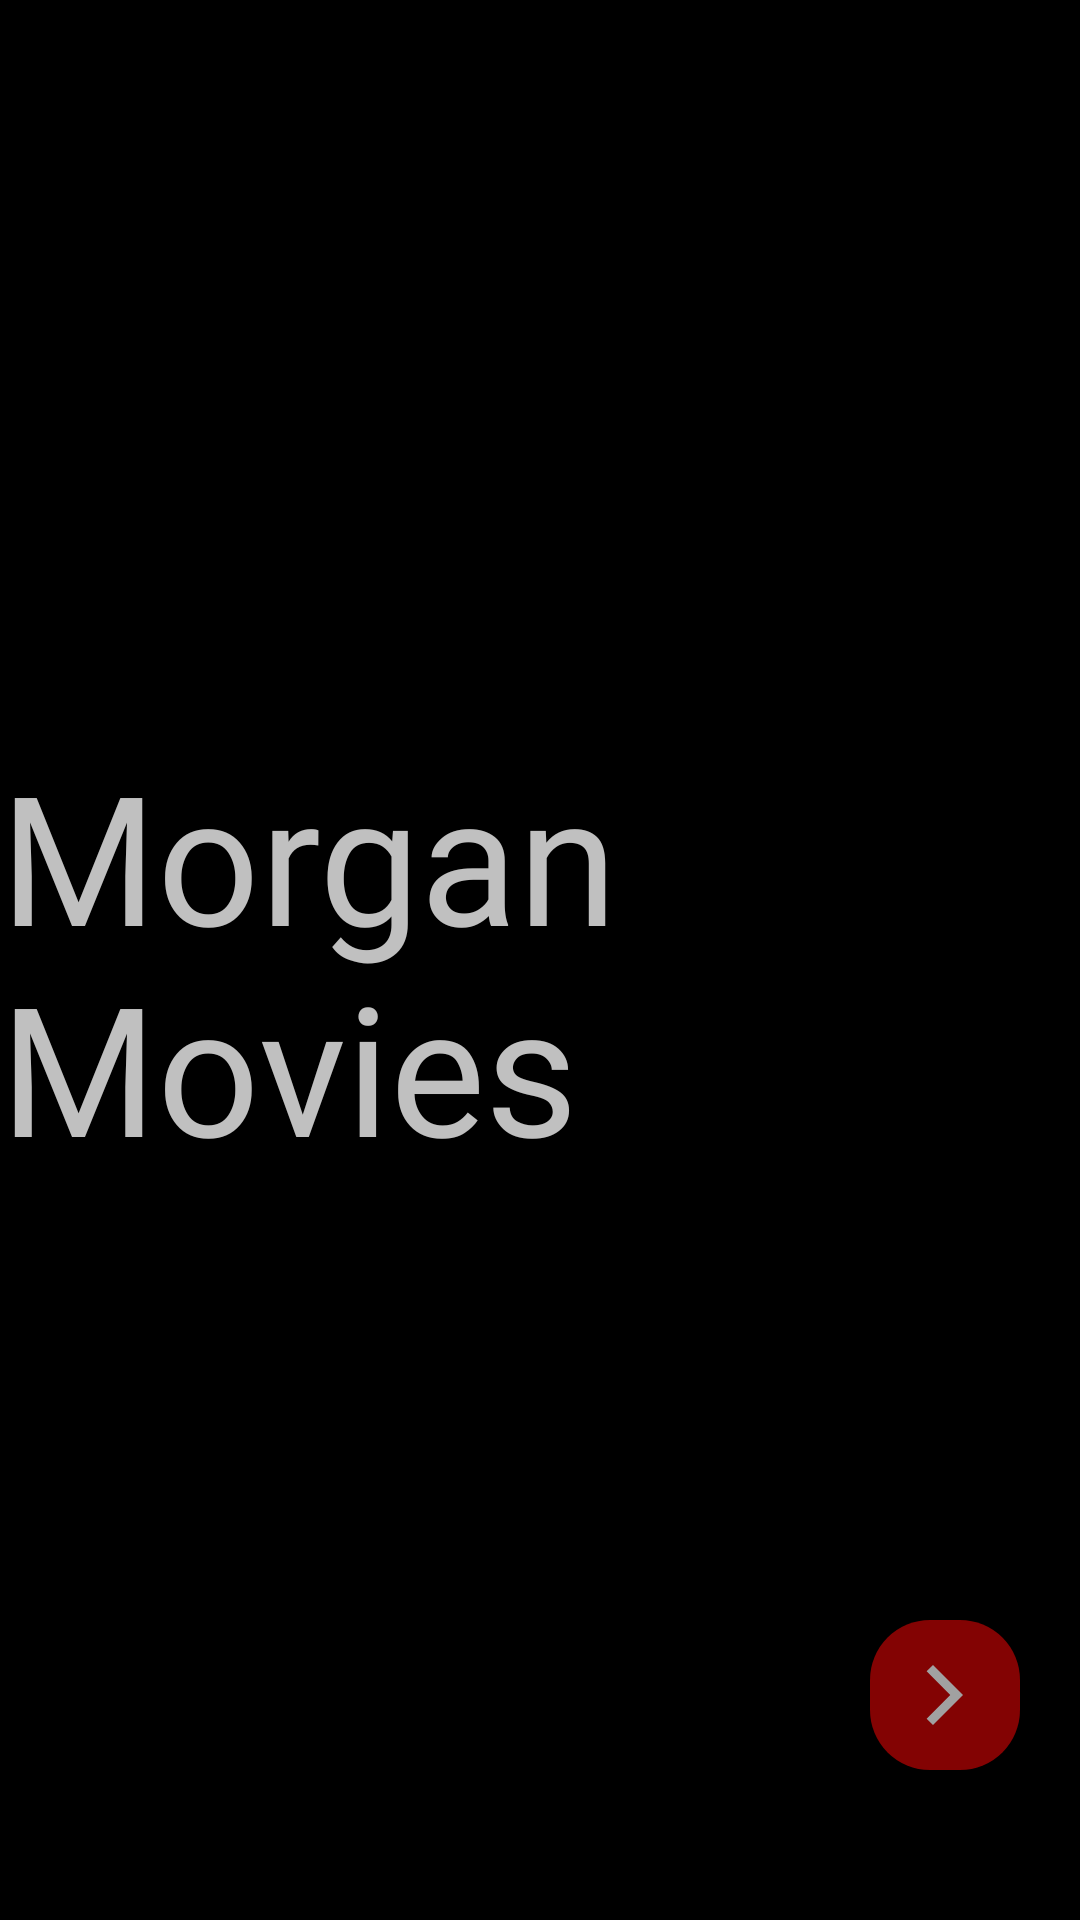

Screen size 1080w x 1920h. Icon name, then its center in pixels as (x,y):
arrow for: (945,1695)
